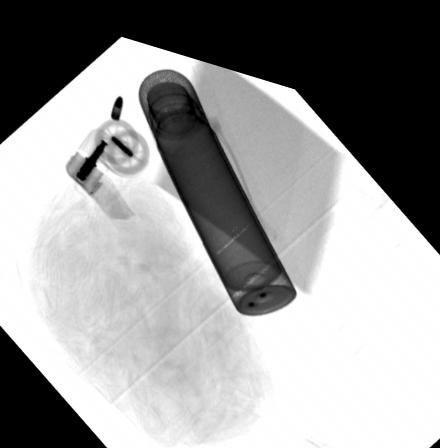Bullet: (109, 86, 124, 115)
